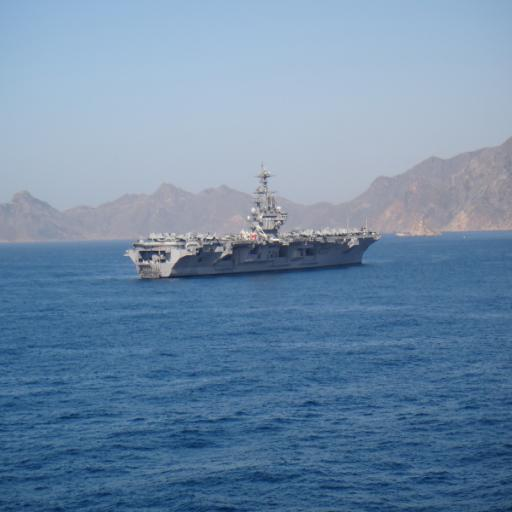Portanaves: (123, 155, 387, 288)
